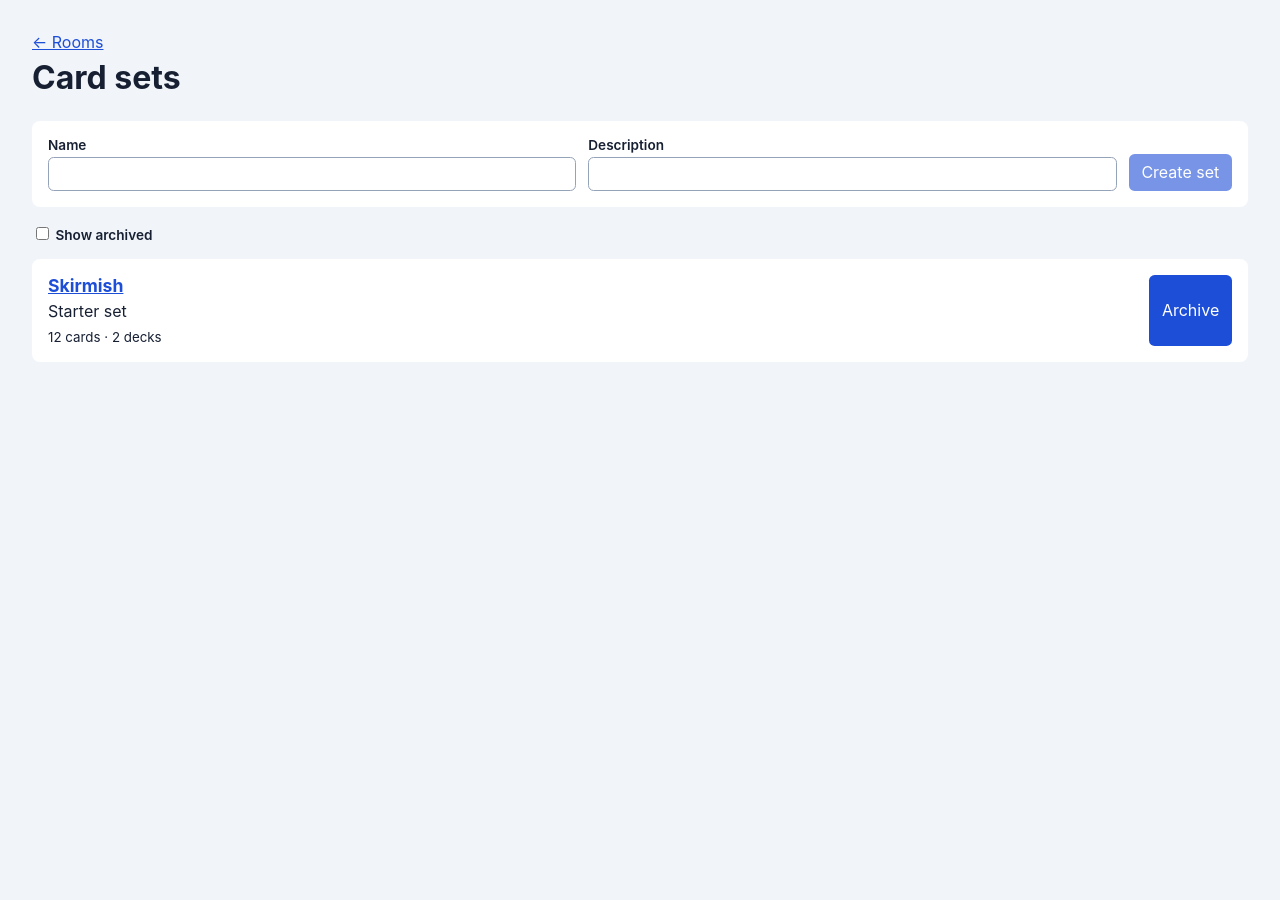
Scenario: SetListScreen › confirms before archiving and suggests forking when the set is in use
Step 1. Click the button "Archive" → [1191, 310], box [1149, 275, 1232, 346]
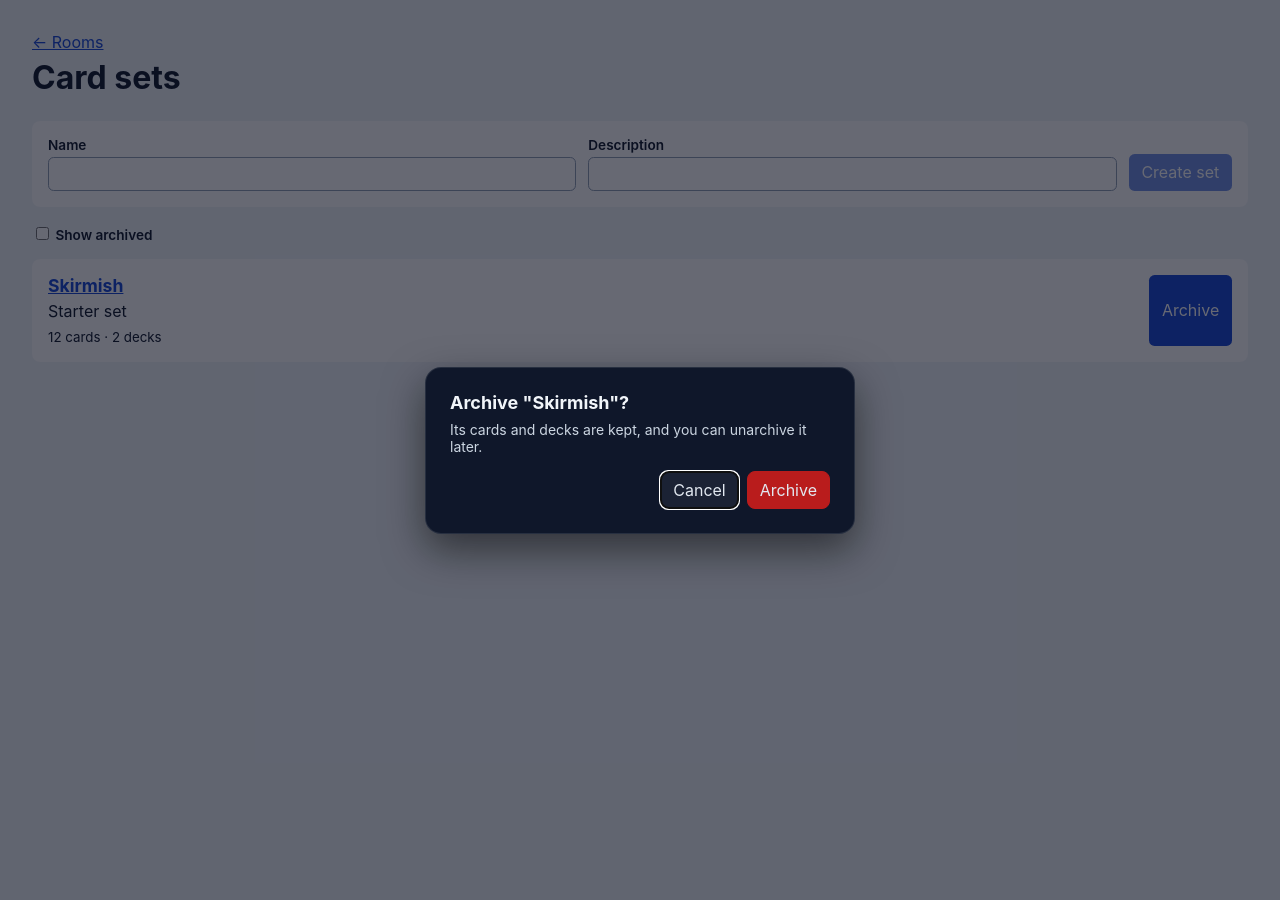
Step 2. Click the button "Archive" → [788, 490], box [747, 470, 830, 508]
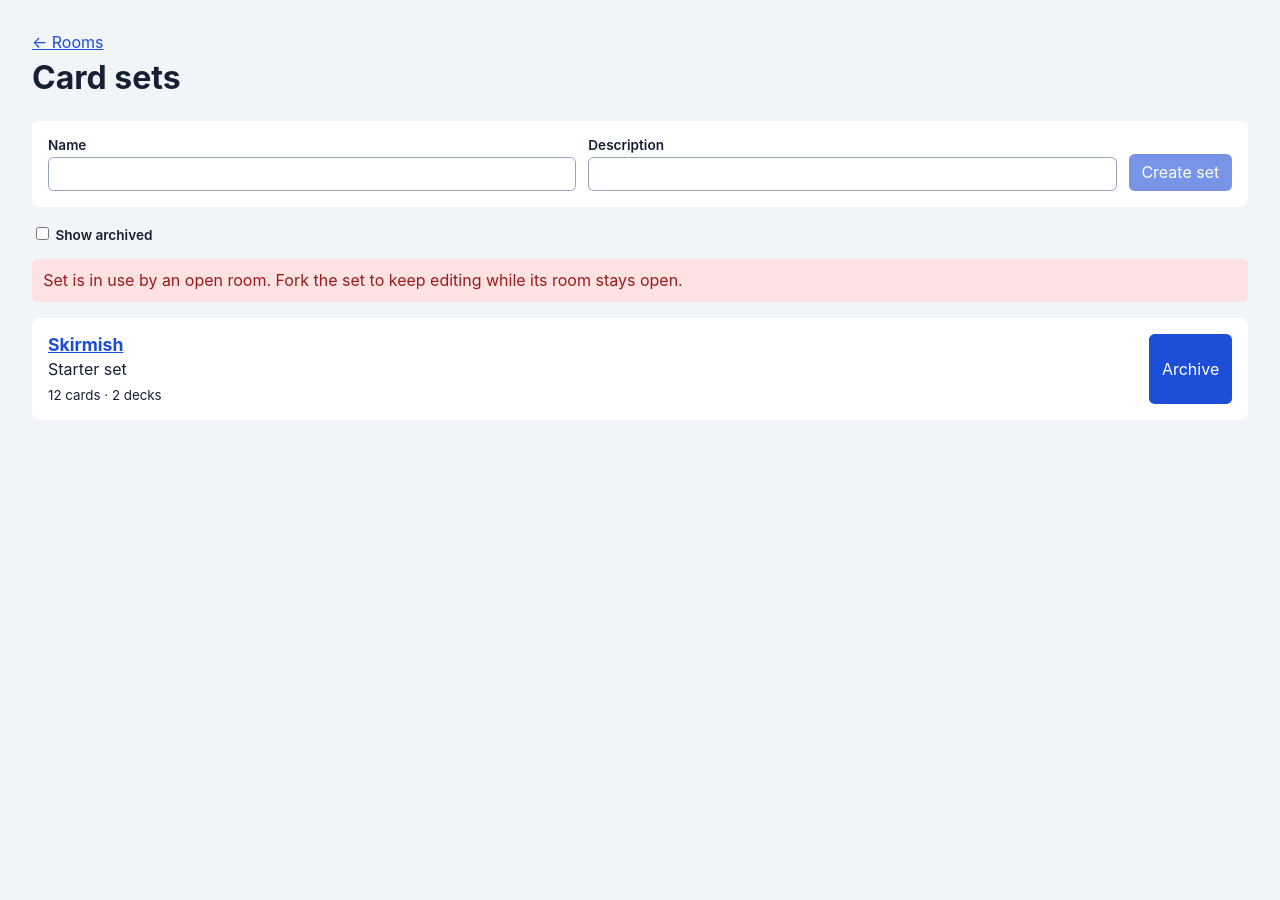
Result: the message shows "Set is in use by an open room. Fork the set to keep editing while its room stays open." at [43, 270, 683, 290]
